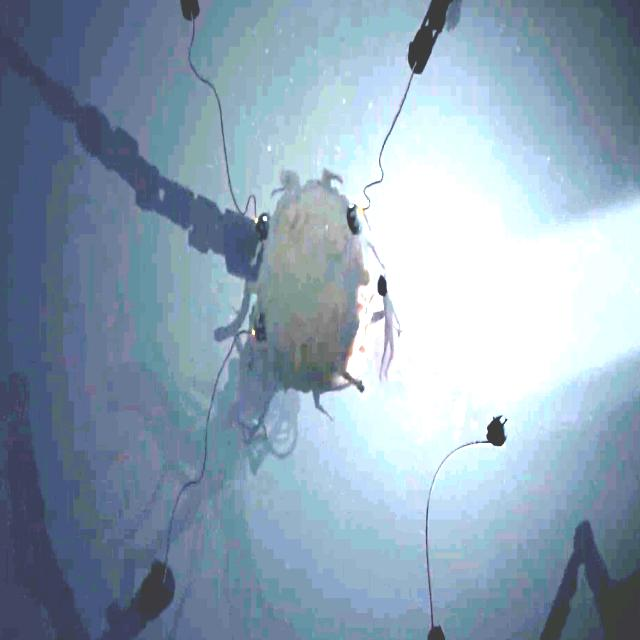blob: (256, 172, 409, 425)
boy: (377, 276, 401, 380)
interactible: (345, 201, 364, 237), (250, 310, 268, 345), (486, 417, 506, 447), (255, 209, 270, 242)
mechanism: (0, 23, 267, 280), (0, 365, 170, 640), (534, 520, 640, 640), (410, 0, 464, 79), (175, 0, 198, 28), (426, 620, 449, 640)
